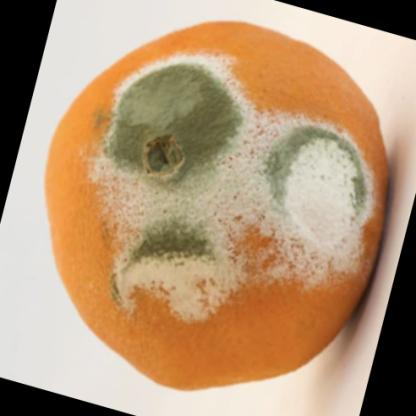rotten: (47, 22, 389, 393)
